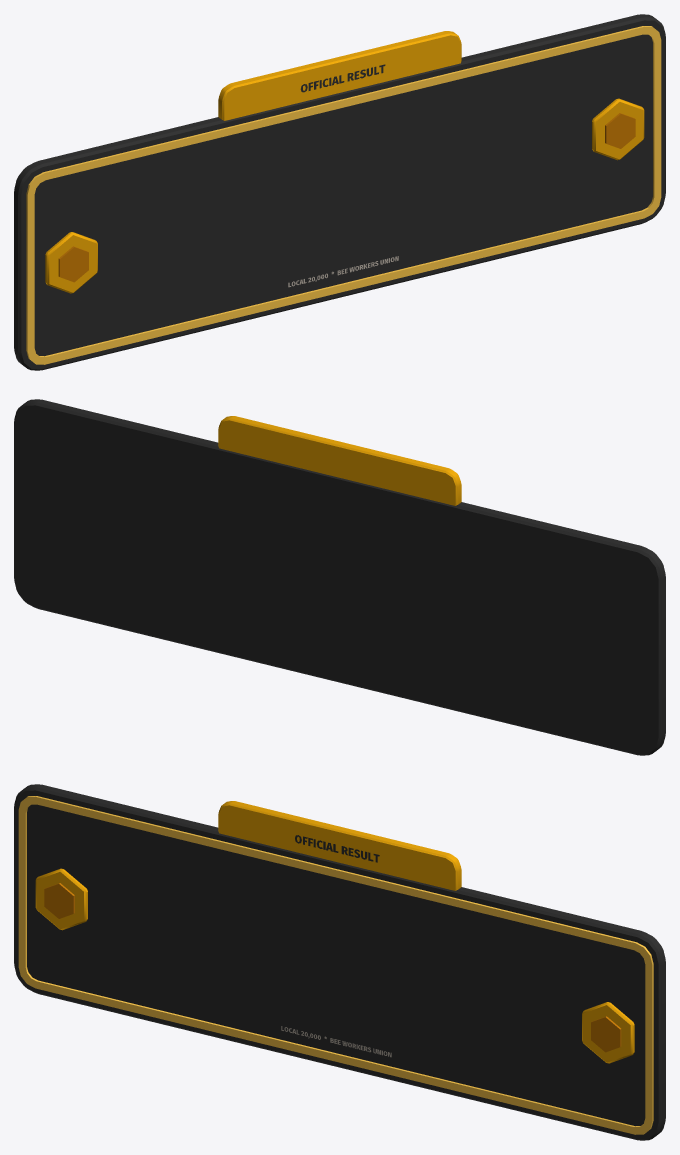
Rendered from score_card.fbx.
3 renders of one model, top to bottom at view 1: azimuth 30°, elevation 25°; view 2: azimuth 150°, elevation 25°; view 3: azimuth 330°, elevation 25°, orthographic.
Visible parts, largest first — view 1: Card; view 2: Card; view 3: Card.
Part boxes in pixels (x1,y1,x2,y2): Card: (14, 14, 665, 370); Card: (14, 399, 665, 755); Card: (14, 784, 665, 1140).
Size of the model in its own units: 0.46 by 0.161 by 0.0135.
1 material, 1 textured.
